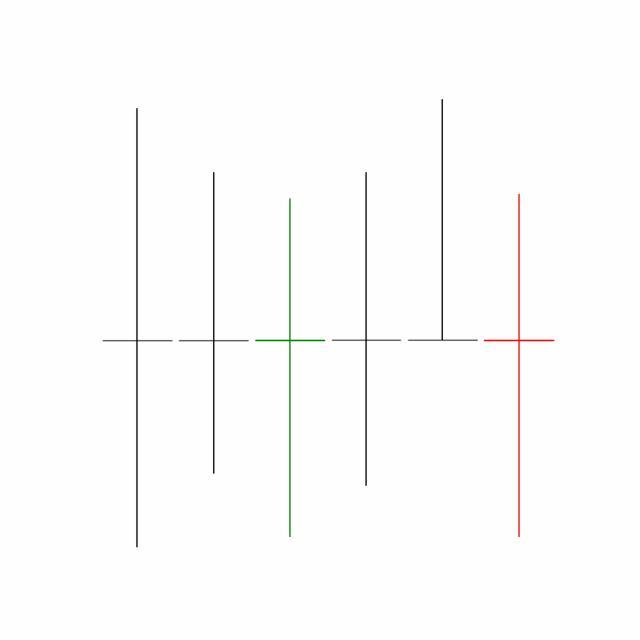Gravestone Doji: (404, 96, 482, 344)
